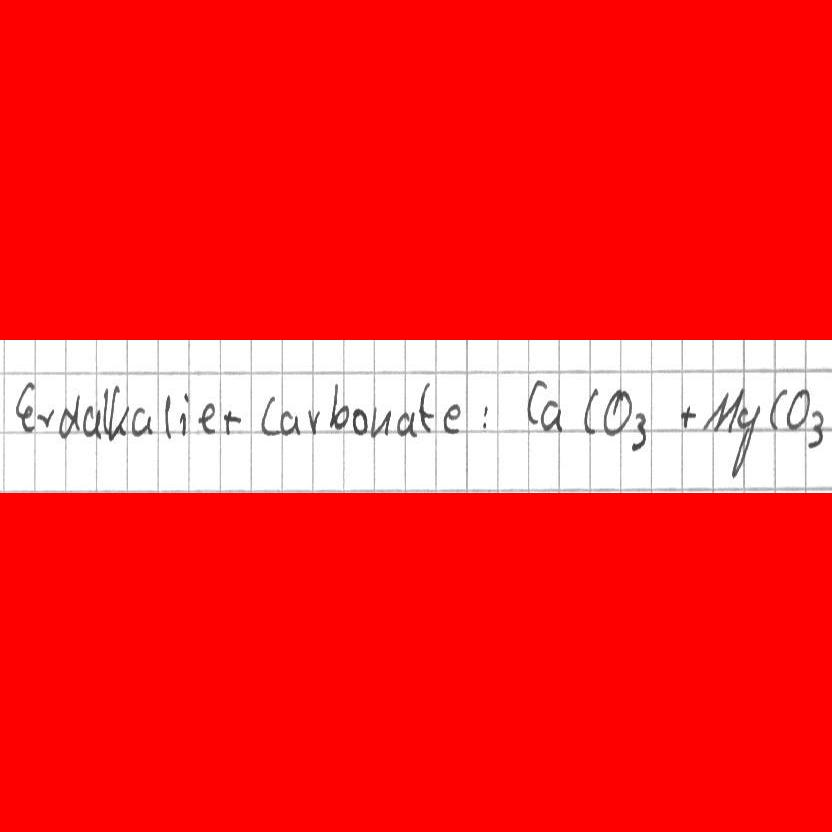Char: (730, 407, 764, 474), (701, 386, 743, 435), (602, 388, 630, 436), (413, 381, 435, 434), (524, 376, 545, 428), (58, 390, 80, 437), (107, 383, 125, 440), (14, 381, 33, 433), (328, 383, 349, 430), (582, 388, 602, 436), (767, 386, 787, 431), (536, 398, 561, 434), (788, 387, 808, 431), (260, 392, 278, 435), (131, 405, 152, 439), (162, 393, 176, 441), (442, 402, 462, 435), (631, 412, 649, 448), (82, 403, 101, 437), (199, 401, 217, 435), (808, 409, 824, 446), (371, 408, 392, 436), (280, 410, 301, 436), (222, 407, 242, 434), (178, 390, 190, 435), (678, 402, 698, 428), (396, 408, 413, 438), (351, 407, 368, 435), (304, 406, 321, 434), (37, 407, 55, 431), (101, 386, 109, 435), (479, 403, 490, 430)
